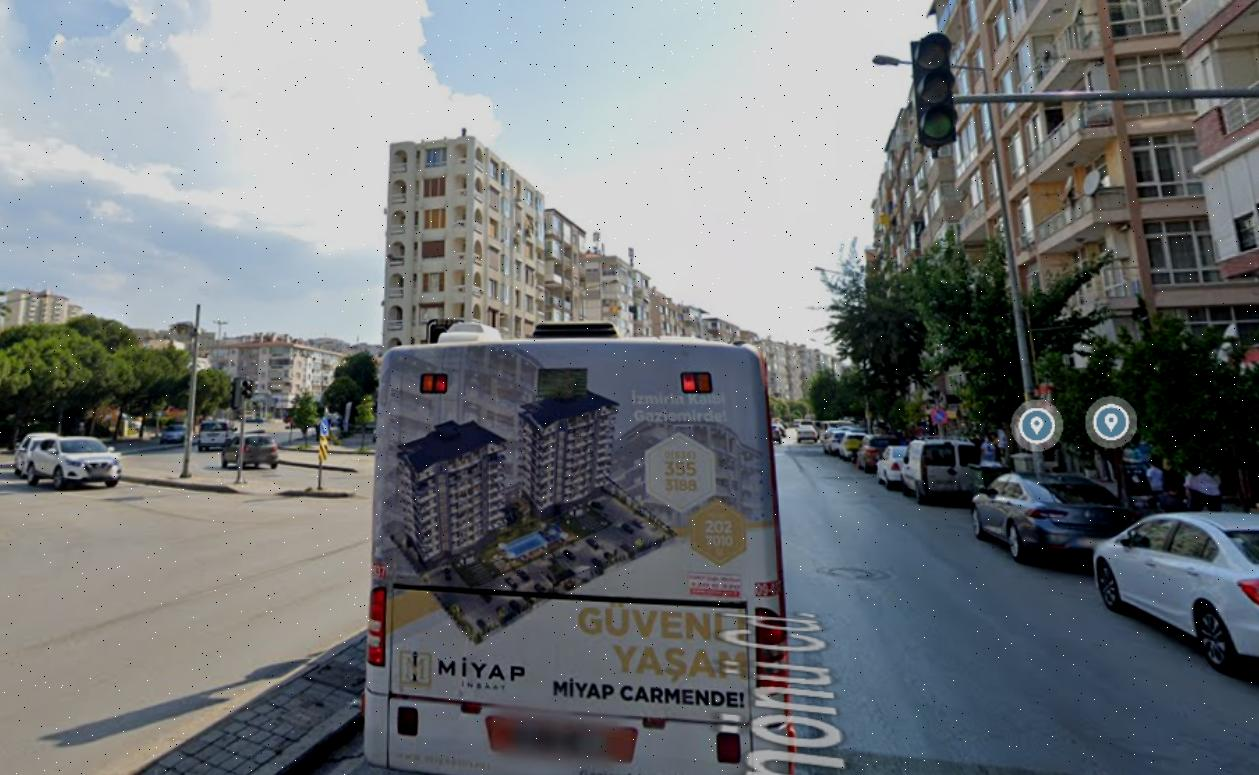rightturnsareforbidden: (913, 35, 959, 142)
